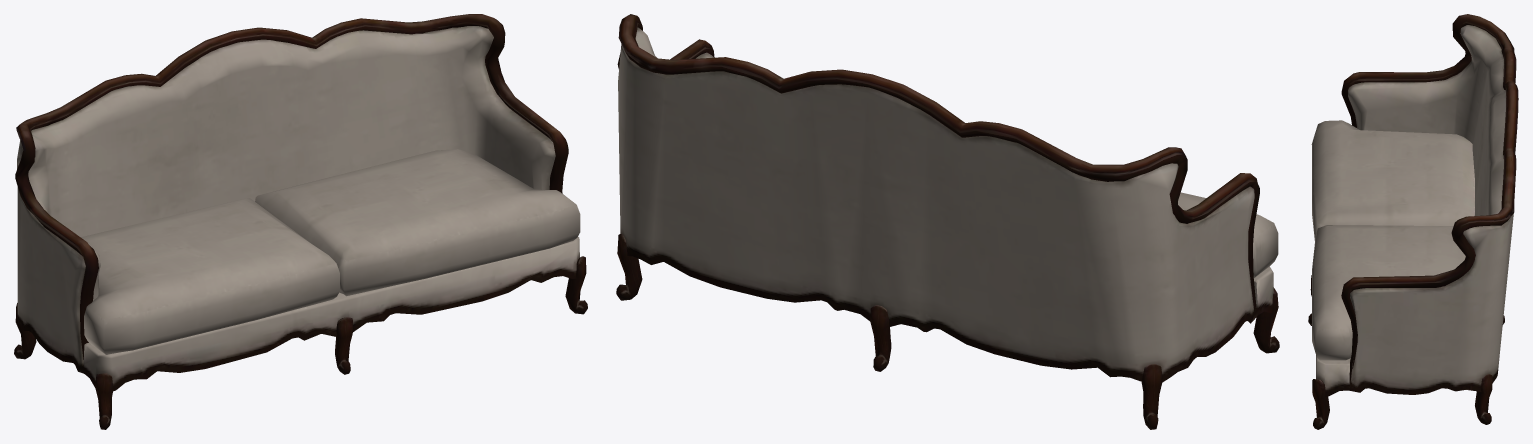
File: Sofa_01.lite.glb
3 views of the same model, side by side, from view 1: azimuth 30°, elevation 25°; view 2: azimuth 150°, elevation 25°; view 3: azimuth 270°, elevation 25° (orthographic). The views are drawn at different scales.
Parts seen in each view (by area): view 1: Sofa_01; view 2: Sofa_01; view 3: Sofa_01.
Boxes of the visible parts, x1,y1,x2,y2 form: Sofa_01: (14,14,587,429); Sofa_01: (616,14,1279,429); Sofa_01: (1308,14,1518,429).
Size of the model in its own units: 1.57 by 0.7954 by 0.658.
1 material, 1 textured.
